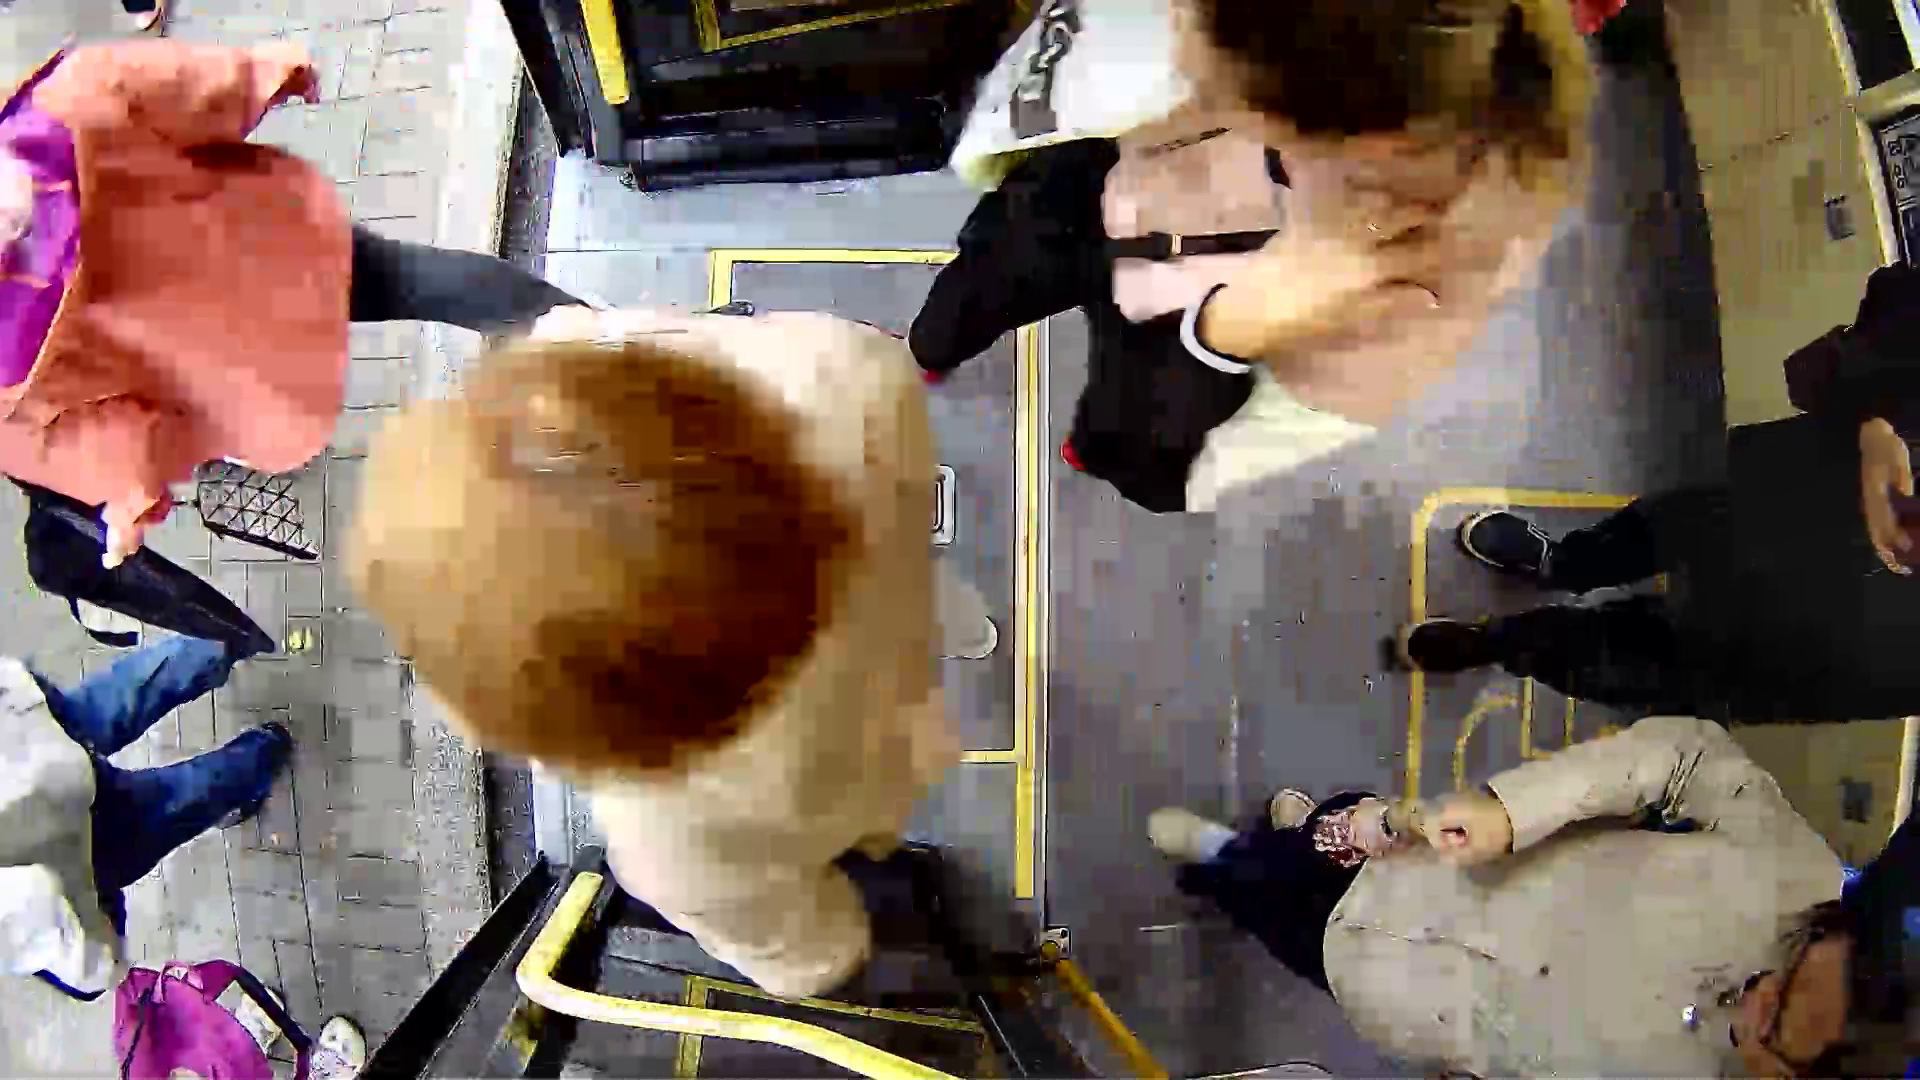person: (339, 309, 977, 919), (941, 1, 1605, 506), (1266, 672, 1920, 1080)
